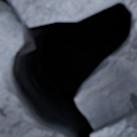broken_brick: (0, 0, 117, 68), (92, 106, 136, 136)
crack: (2, 0, 134, 136), (0, 0, 8, 4)
